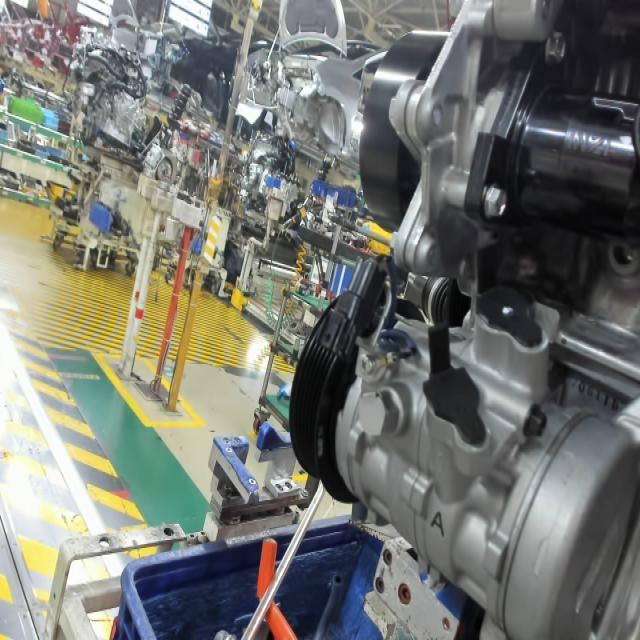Compressor-A: (424, 501, 444, 539)
